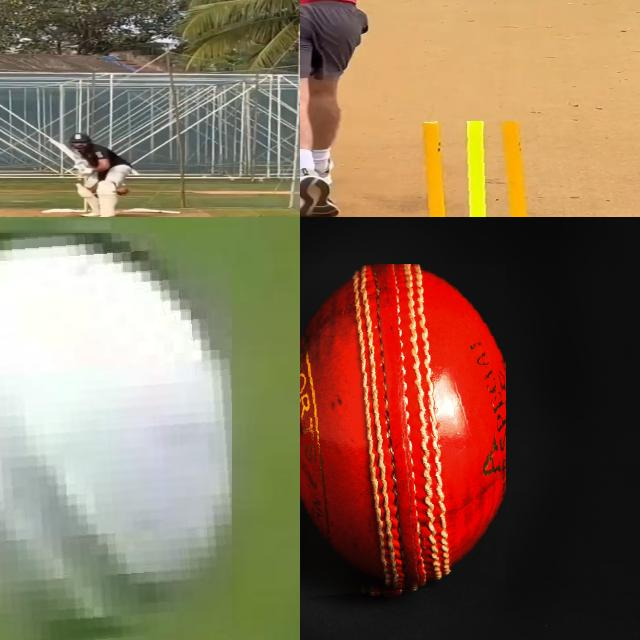Cricket ball: (0, 233, 232, 640), (300, 263, 506, 598), (114, 188, 131, 196)
Stumps: (401, 121, 538, 217)
